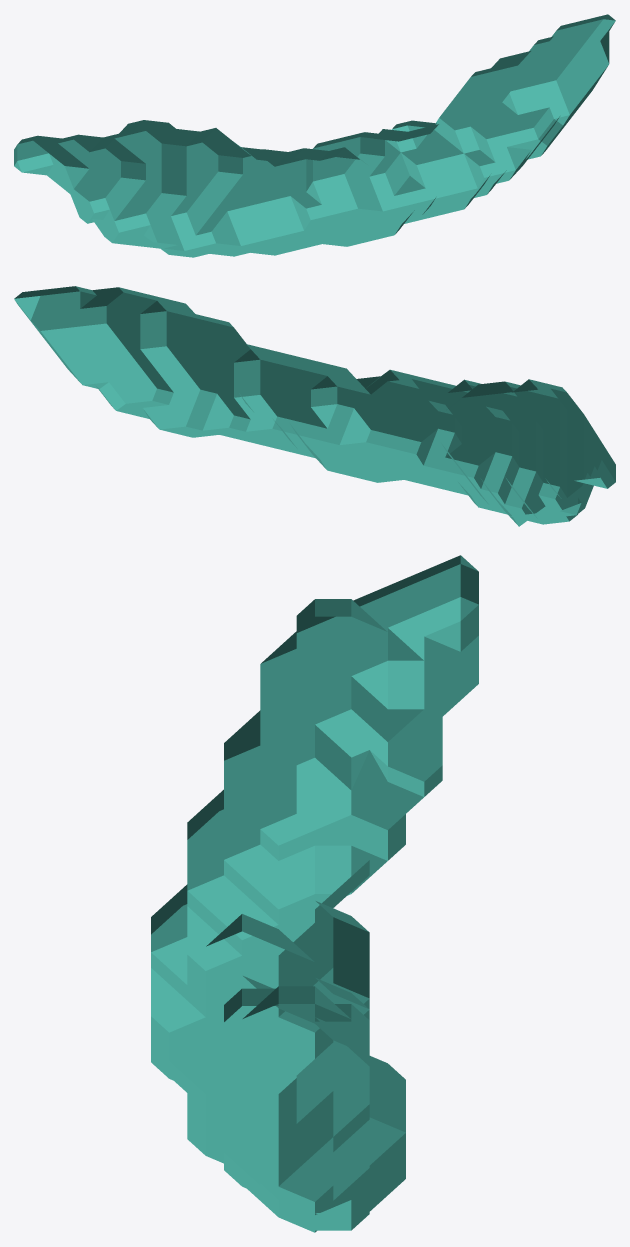
File: region_0013_Cantv__anterior_commissure__ventral_part_.glb
The picture shows the model from 3 angles, top to bottom: view 1: azimuth 30°, elevation 25°; view 2: azimuth 150°, elevation 25°; view 3: azimuth 270°, elevation 25°; orthographic projection. The views are drawn at different scales.
Parts seen in each view (by area): view 1: world; view 2: world; view 3: world.
Part boxes in pixels (<box>): world: <box>14,14,615,257</box>; world: <box>14,286,615,526</box>; world: <box>151,555,478,1232</box>.
Bounding box in the file's own units: 0.296 × 0.064 × 0.072.
